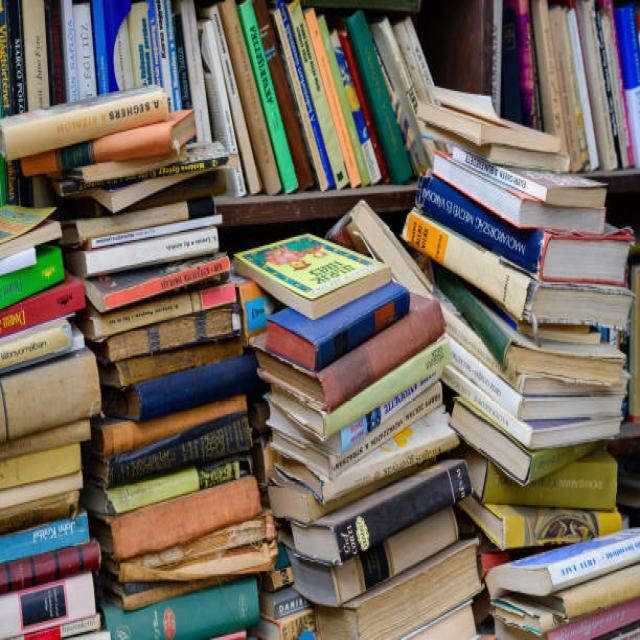electronic: (233, 231, 391, 320), (1, 83, 169, 162)
